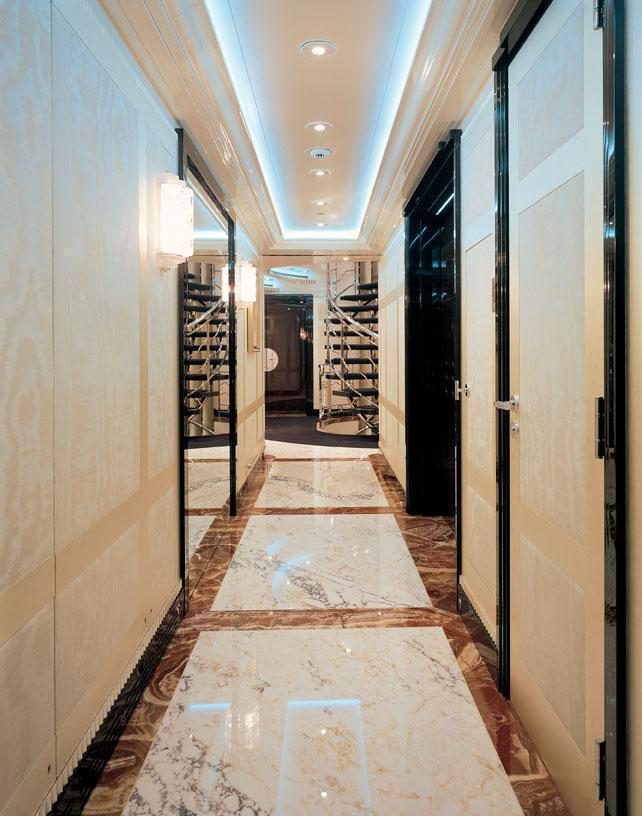Escaleras: (317, 264, 377, 438)
Puerta: (509, 55, 611, 788), (455, 128, 503, 630), (403, 235, 460, 497)
Ventana: (182, 206, 234, 579)
